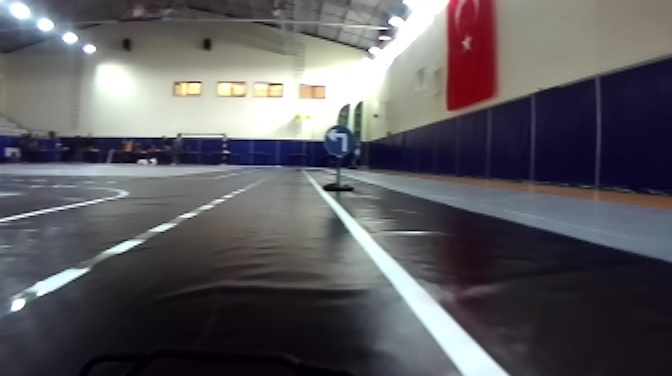sola_donus: (324, 120, 358, 158)
